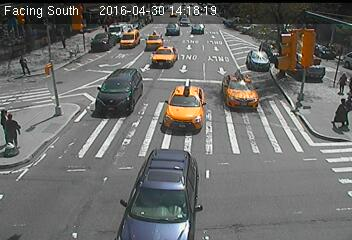neg: (252, 43, 282, 82), (300, 137, 329, 176), (230, 151, 256, 186), (149, 83, 174, 116), (263, 180, 288, 213), (79, 149, 103, 181), (14, 173, 35, 201), (223, 56, 243, 83), (165, 139, 185, 165), (142, 39, 160, 63), (195, 39, 213, 63), (128, 142, 140, 158)
pos: (1, 112, 27, 147), (324, 95, 349, 129), (13, 53, 35, 82), (330, 69, 348, 93), (56, 32, 71, 51)
